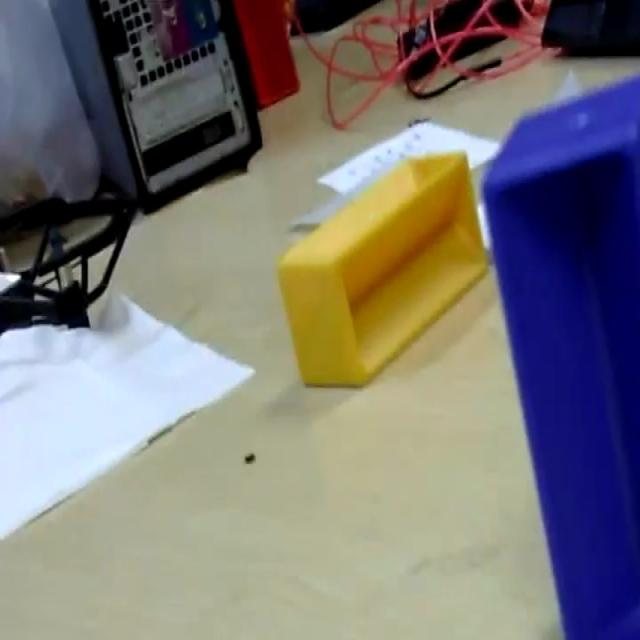blue_block: (480, 72, 639, 635)
yellow_block: (276, 148, 488, 388)
